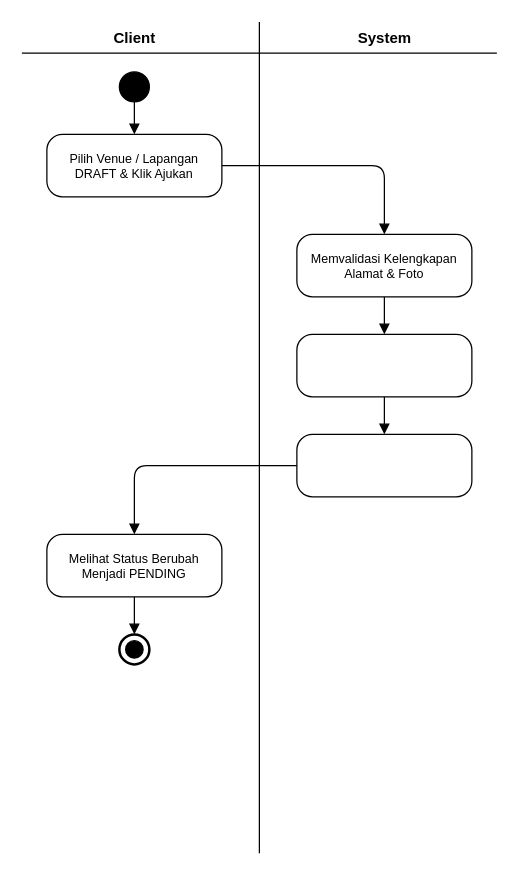
The diagram is 520 pixels wide and 876 high, and some of its shapes have lost their labels. Here are the shapes that lost their labels. From the top down, the centre of each, then its label:
point (384, 365): Mengubah Status Pengajuan Menjadi PENDING
point (384, 465): Memasukkan Pengajuan ke Antrean Admin
